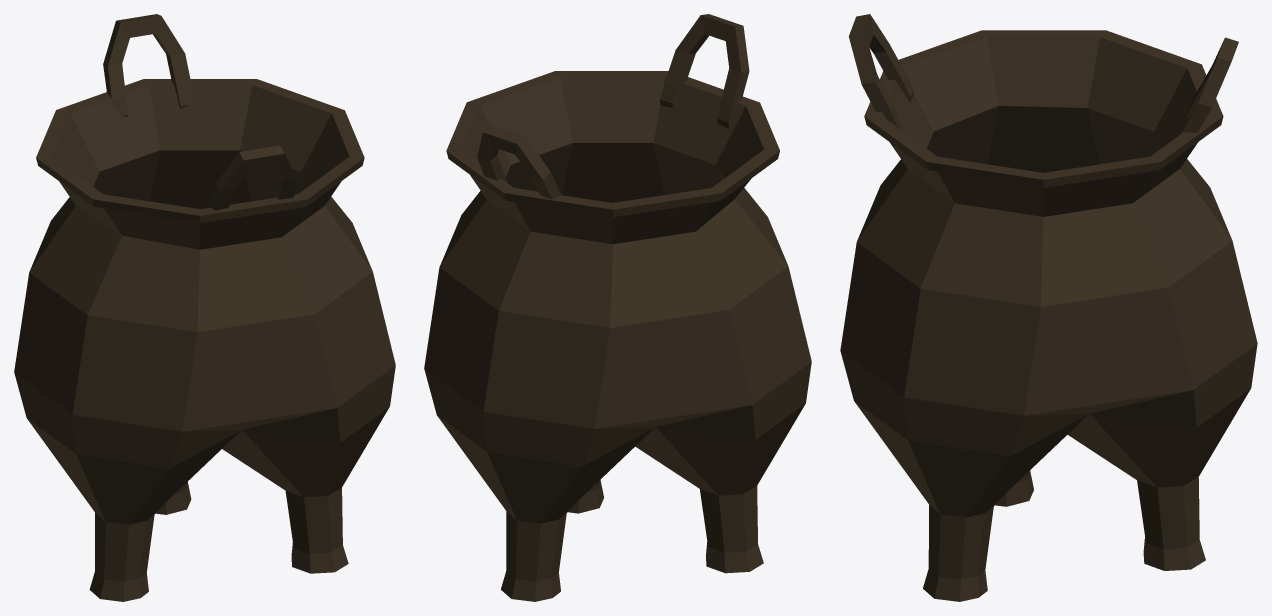
3 renders of one model, left to right at view 1: azimuth 30°, elevation 25°; view 2: azimuth 150°, elevation 25°; view 3: azimuth 270°, elevation 25°, orthographic. The views are drawn at different scales.
Parts seen in each view (by area): view 1: li; view 2: li; view 3: li.
Part boxes in pixels (box(x1,y1,x2,y2)): li: box(14, 14, 395, 601); li: box(424, 14, 811, 601); li: box(840, 14, 1257, 601).
Bounding box in the file's own units: 29.83 × 40.61 × 30.07.
